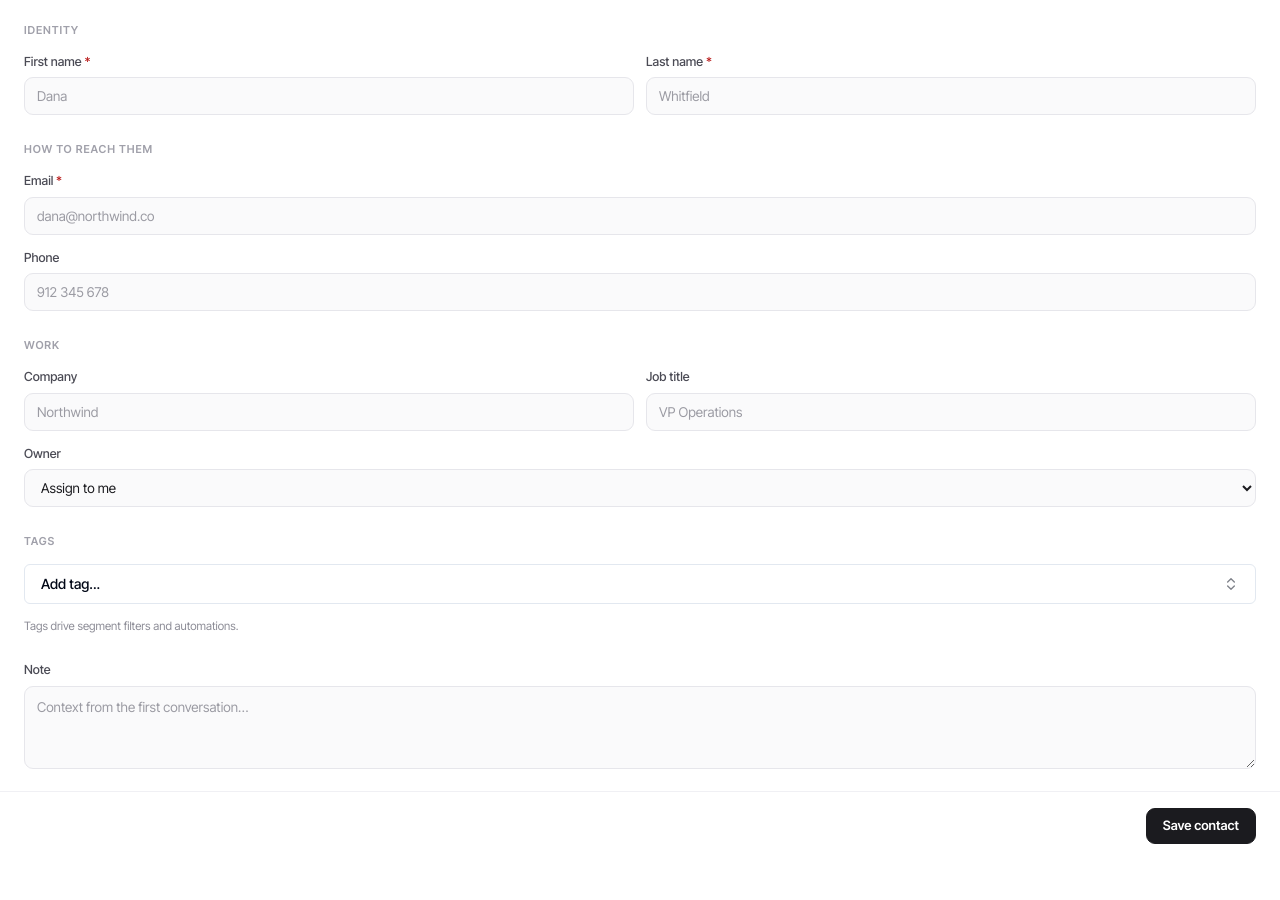
Test: ContactForm › shows inline validation errors for required fields
What coordinates should you click on to do the following:
click the button "Save contact"
I would click on:
 (1201, 826)
Its box is [1146,808,1256,844].
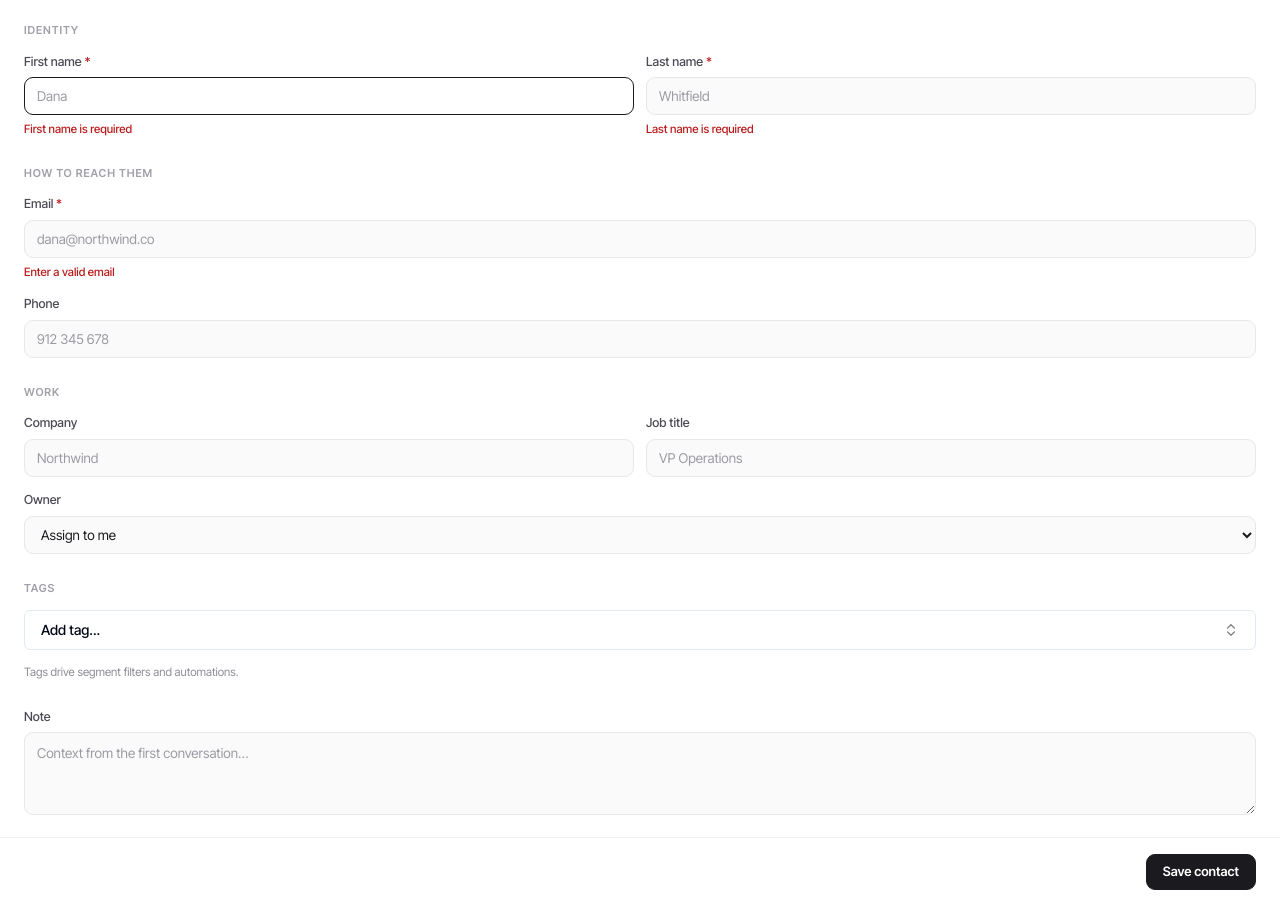
Check: the text "Enter a valid email" is shown, box [24,265,115,279]
Check: the text "First name is required" is shown, box [24,122,132,136]
Check: the text "Last name is required" is shown, box [646,122,754,136]
